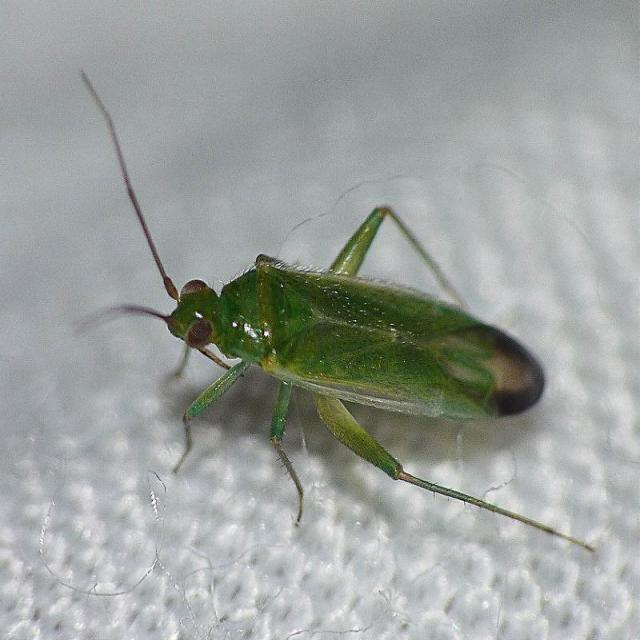Miridae-Adult-: (32, 62, 594, 558)
